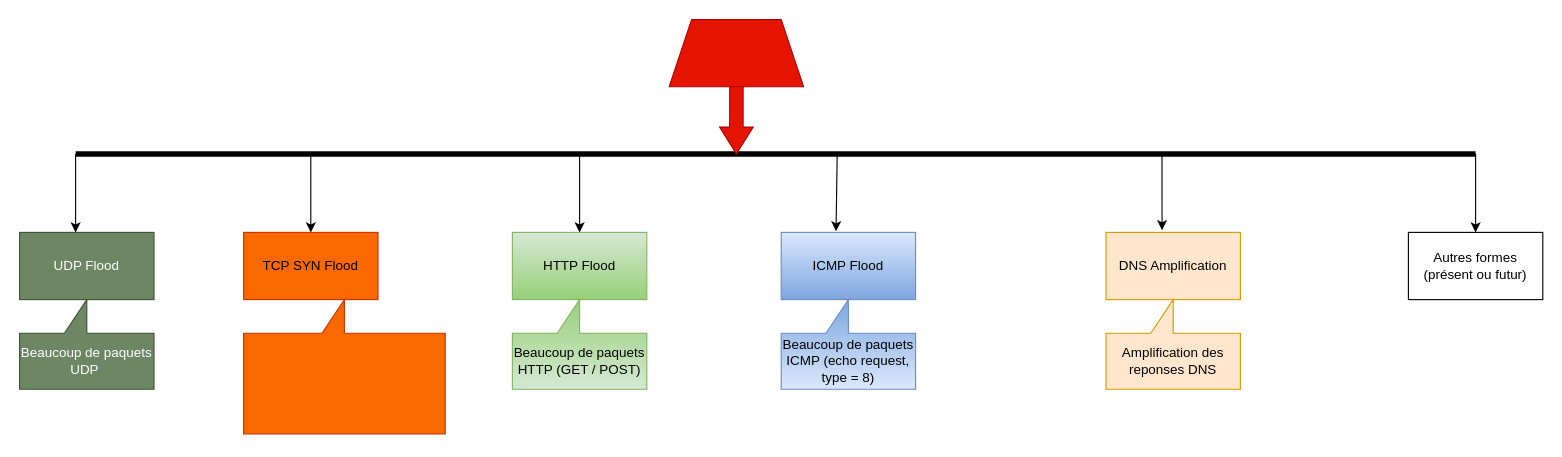
Some shapes in this 1562 by 457 pixel diagram are drawn without their labels. Here are the shapes that lost their labels. From the top down, the box of each, then its label:
(668, 18, 804, 87): DDoS
(242, 298, 445, 434): SYN = 1, SYN-ACK = 1 et ACK = 0 Beaucoup de paquets TCP
